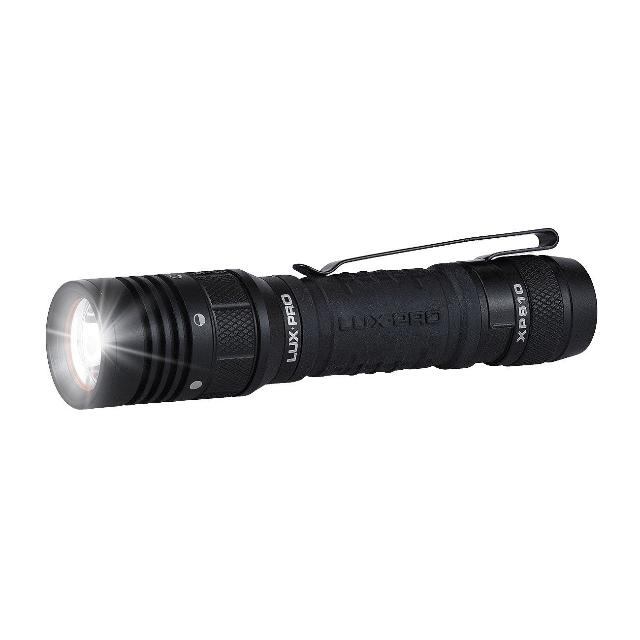Flashlight: (33, 218, 605, 420)
